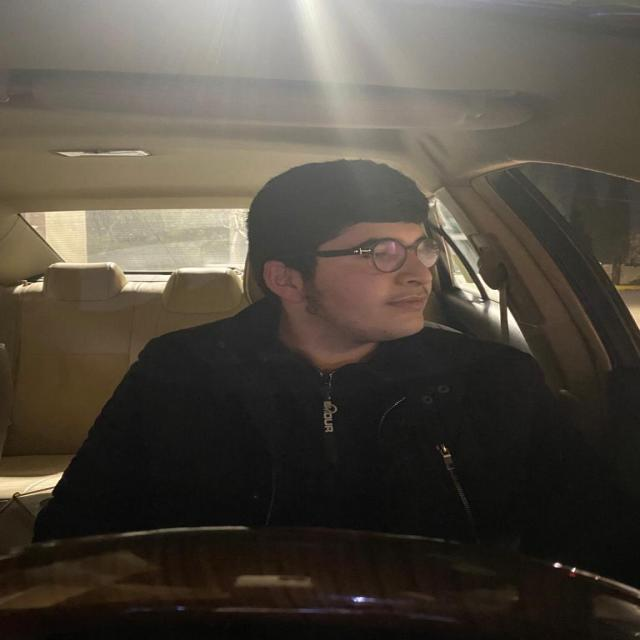person: (246, 152, 456, 354)
